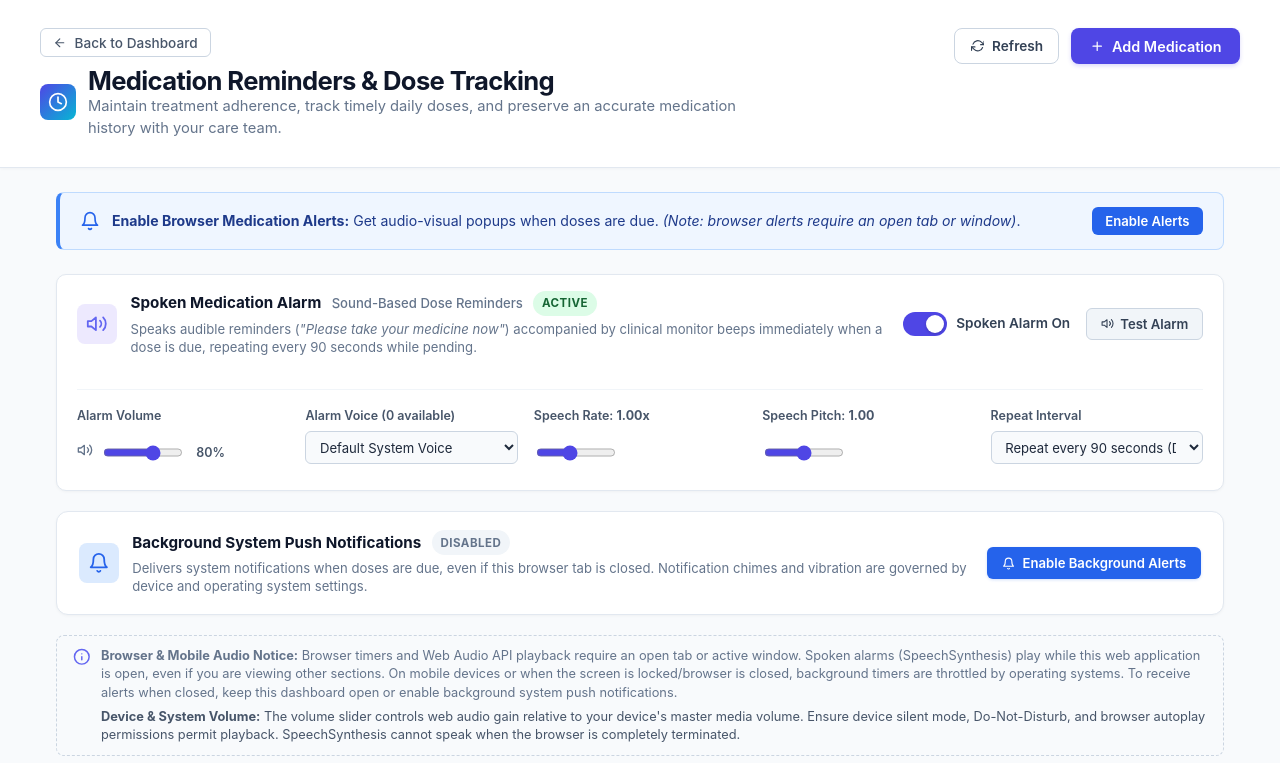
Test case: MedicationReminders Component Suite › 8. Adjusts volume slider and reflects percentage
Set the slider named "Reminder chime volume" to "0.6" at (149, 452), box x1=103 y1=433 x2=183 y2=472
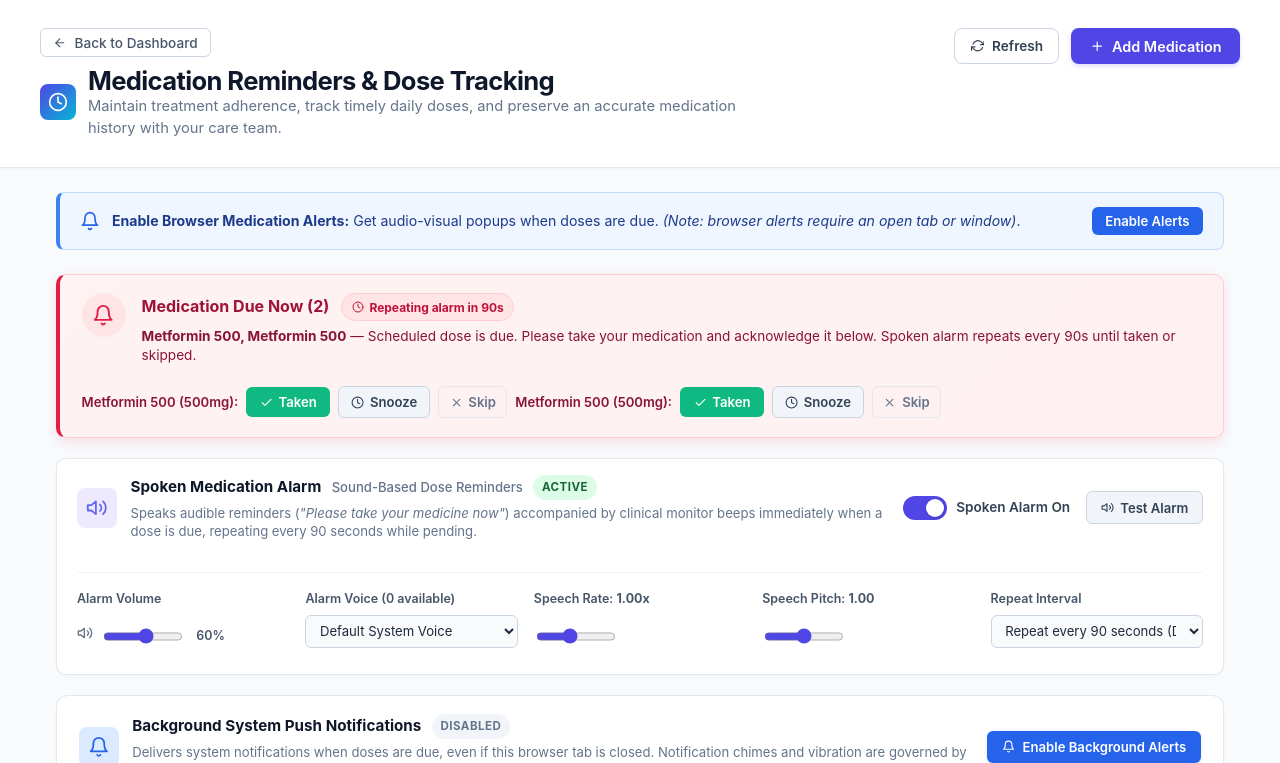
Expected: the text "60%" is shown, x1=193 y1=626 x2=225 y2=646
